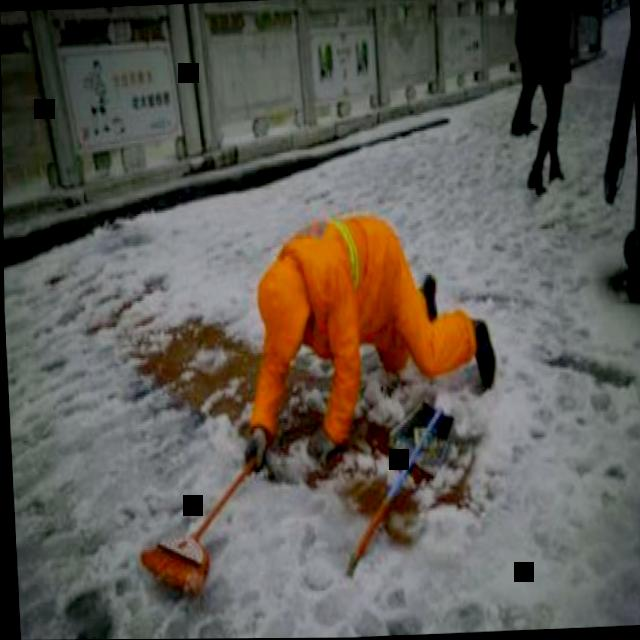Fall-Detected: (214, 183, 505, 483)
